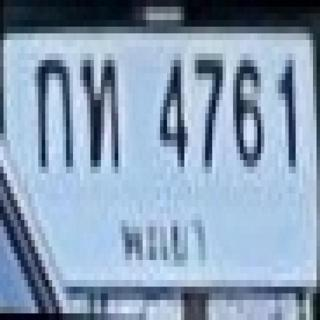A01: (30, 50, 76, 176)
A23: (76, 51, 129, 177)
N01: (270, 50, 304, 174)
N04: (152, 50, 193, 174)
N06: (229, 50, 265, 174)
N07: (192, 51, 227, 172)
P42: (113, 208, 215, 275)
